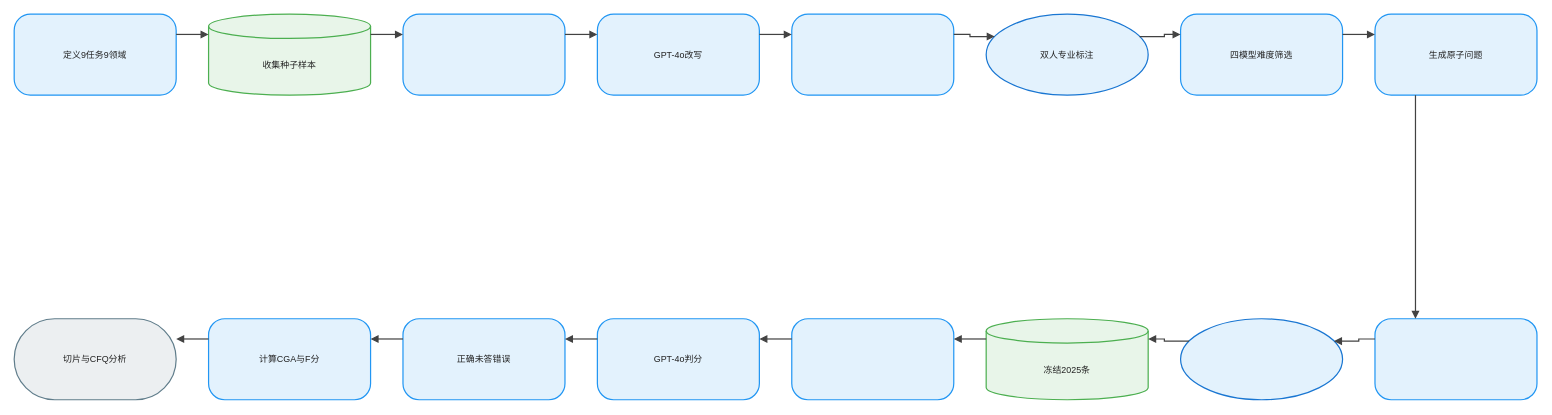
Image size: 1552x415. Some labels were removed from this diagram. Each missing label, with the box of its shape:
GPT-4筛查: (791, 13, 954, 95)
核验两个来源: (1374, 318, 1537, 400)
检查图像答案: (402, 13, 565, 95)
第三专家裁决: (1180, 318, 1343, 400)
输入图像问题: (791, 318, 954, 400)
